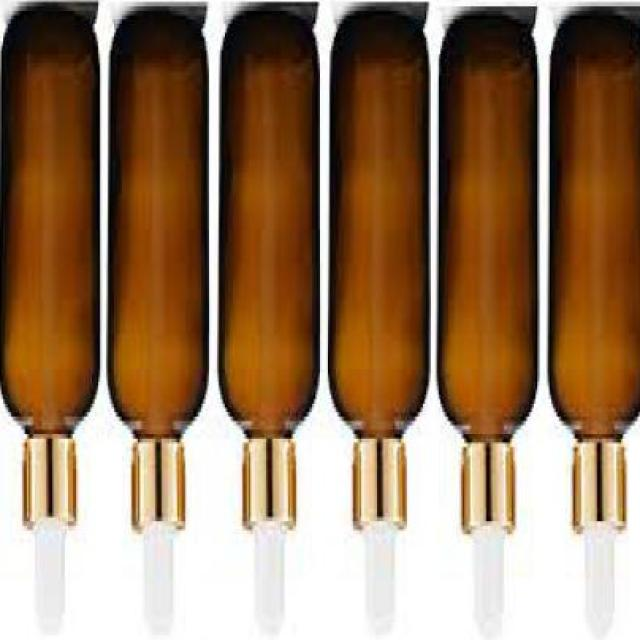kaca: (104, 19, 208, 447), (217, 14, 320, 442), (434, 24, 536, 444), (328, 16, 426, 447), (545, 19, 640, 447), (0, 19, 96, 442)
